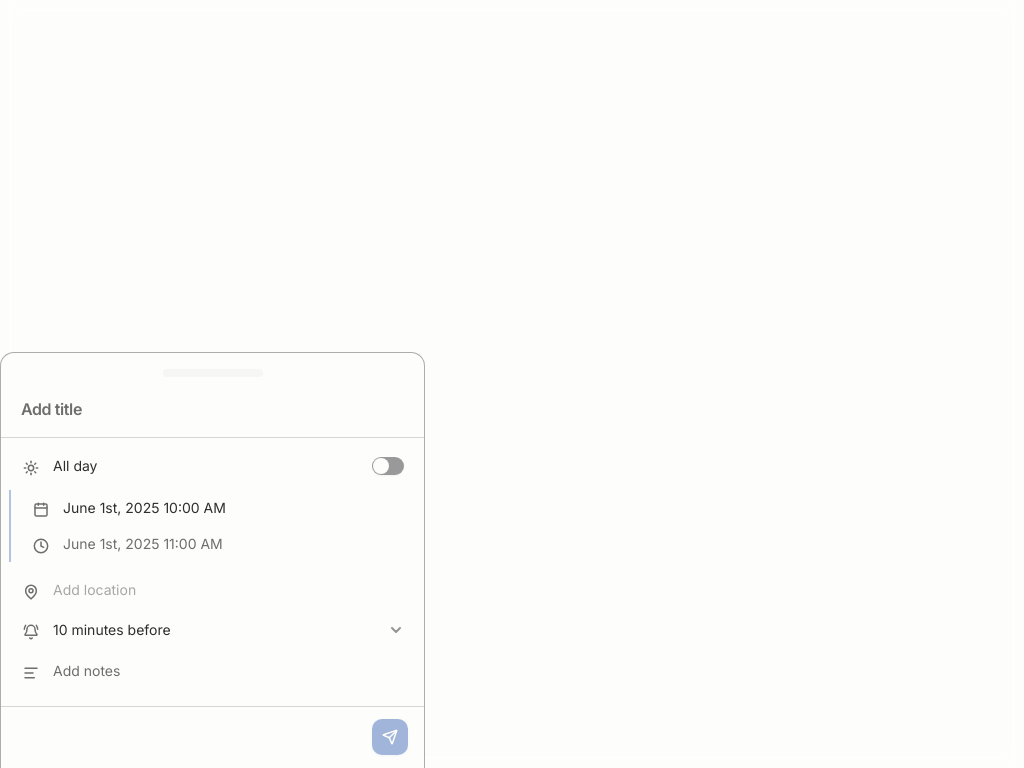
Test: CreateEventDialog — button activation (create mode) › [P3] button re-disables when title is cleared
The width and height of the screenshot is (1024, 768).
Type "Meeting" into the field with placeholder "Add title".
click(212, 409); type("Meeting")  # box [21,398,404,420]
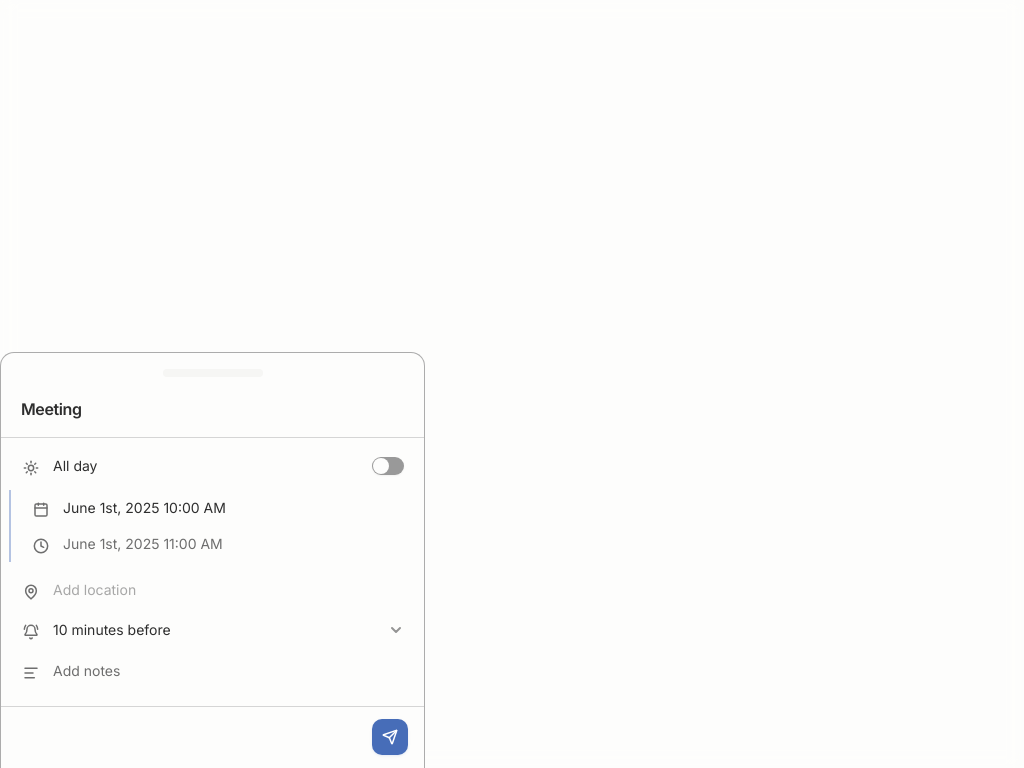
Expected: the button named "create event" is enabled, [372,719,408,755]
Clear the field with placeholder "Add title" at (212, 409), box [21,398,404,420]
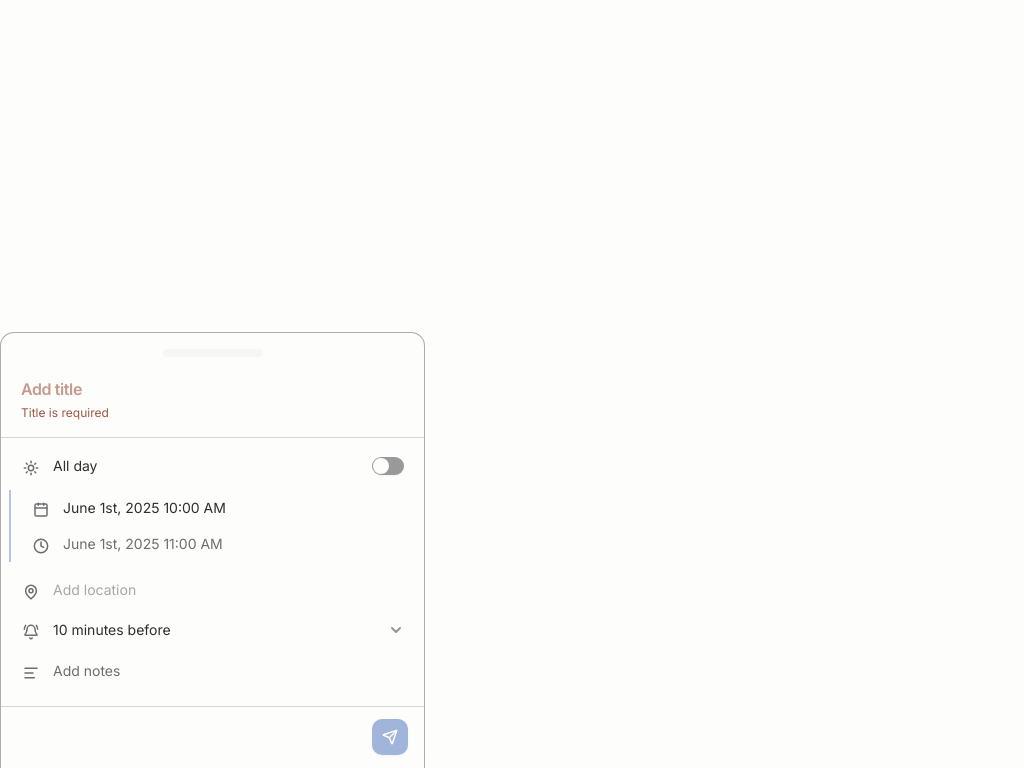
Expected: the button named "create event" is disabled, [372,719,408,755]
